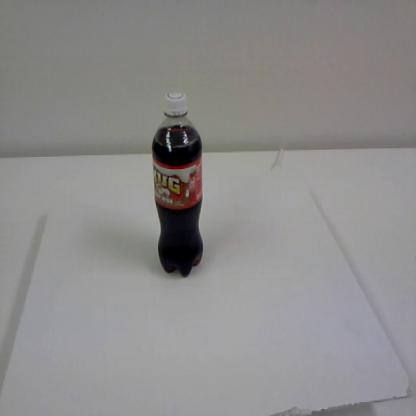bottle: (152, 88, 204, 279)
